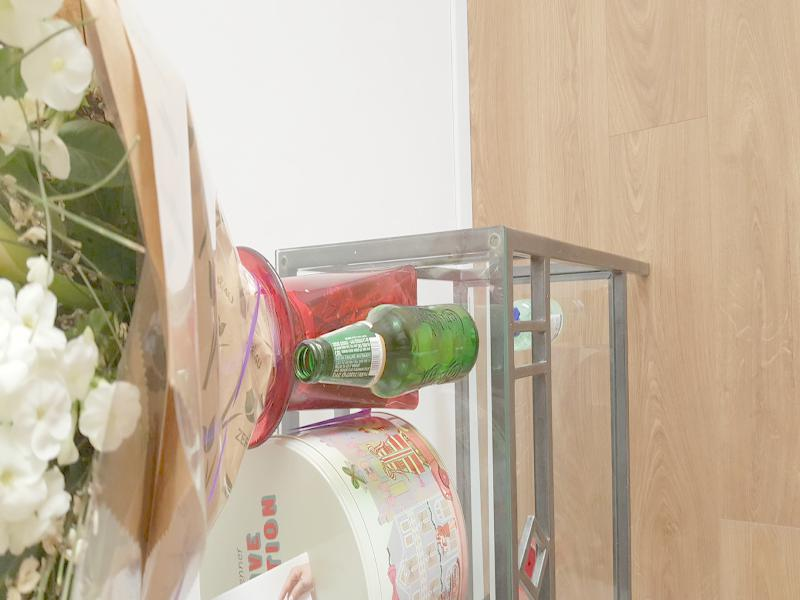Beer: (295, 302, 480, 398)
